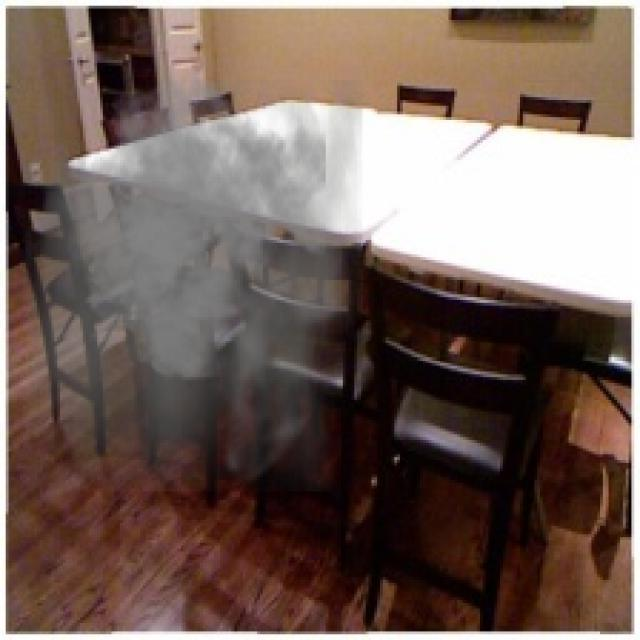Smoke: (20, 66, 363, 492)
